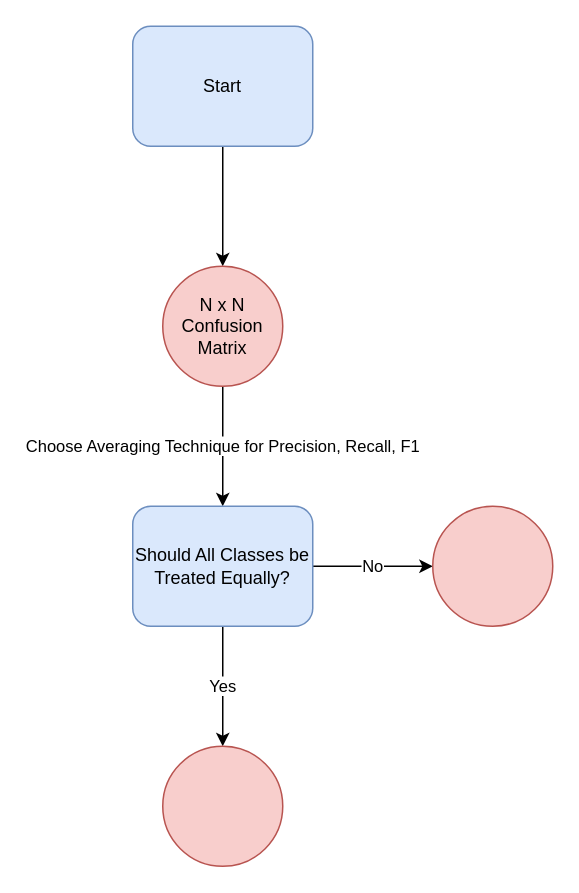
Some shapes in this 579 by 893 pixel diagram are drawn without their labels. The shapes that lost their labels are listed below. From the top down, each one's centre as x and y in pixels, then its label:
At point (492, 565): "Weighted".
At point (222, 805): "Macro".
